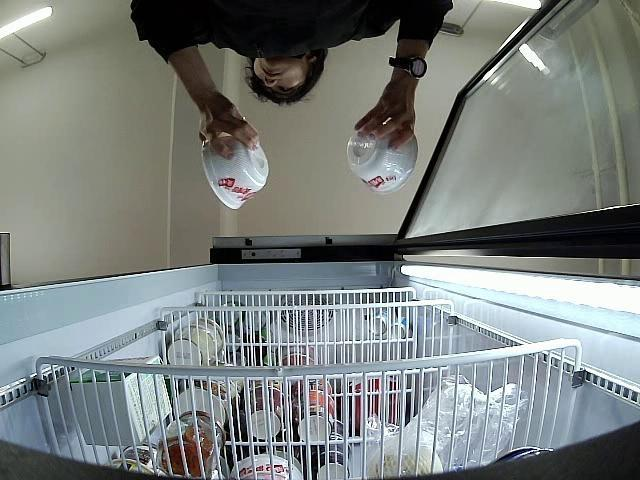09_yukGaeJang: (199, 134, 270, 210), (346, 123, 417, 193)
